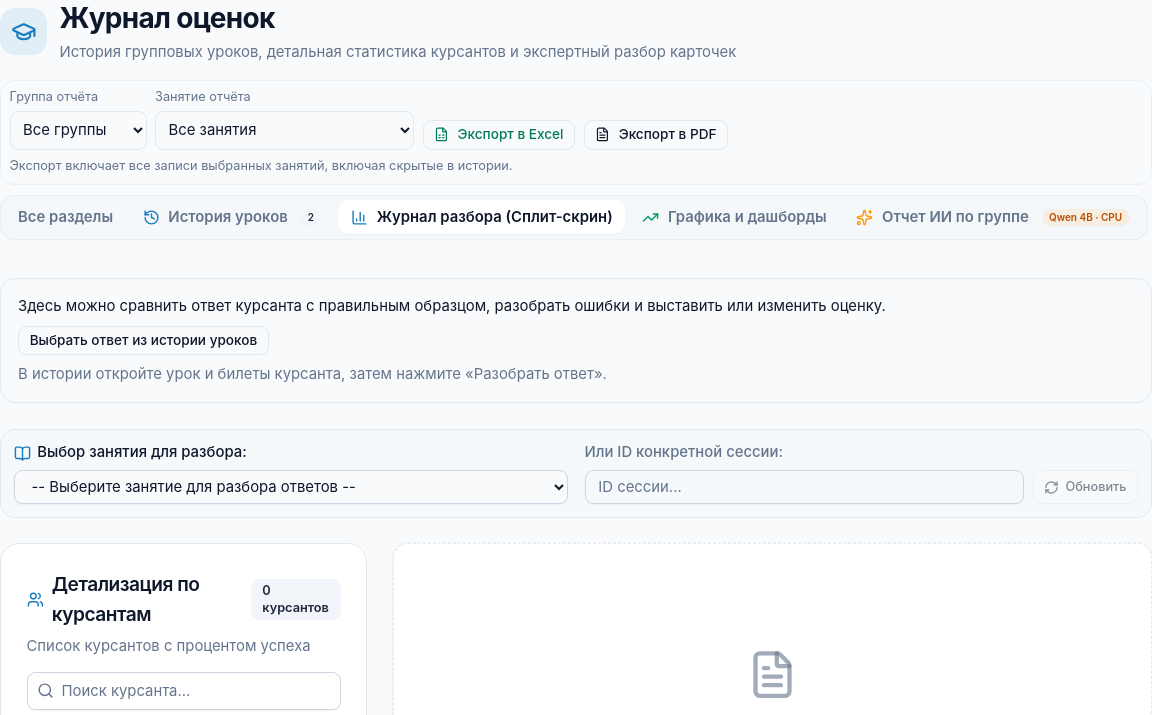
it: FIX-08: Split screen lesson selection and cadets roster › allows teacher to select a lesson without manual UUID and displays two cadets with their records
The width and height of the screenshot is (1152, 715).
Select lesson-alpha from dropdown
Select "Группа 101-П — Занятие (Завершён)" in the dropdown named "выбор урока" at (291, 487), box top-left (14, 470), bottom-right (568, 504)
(page scrolled)
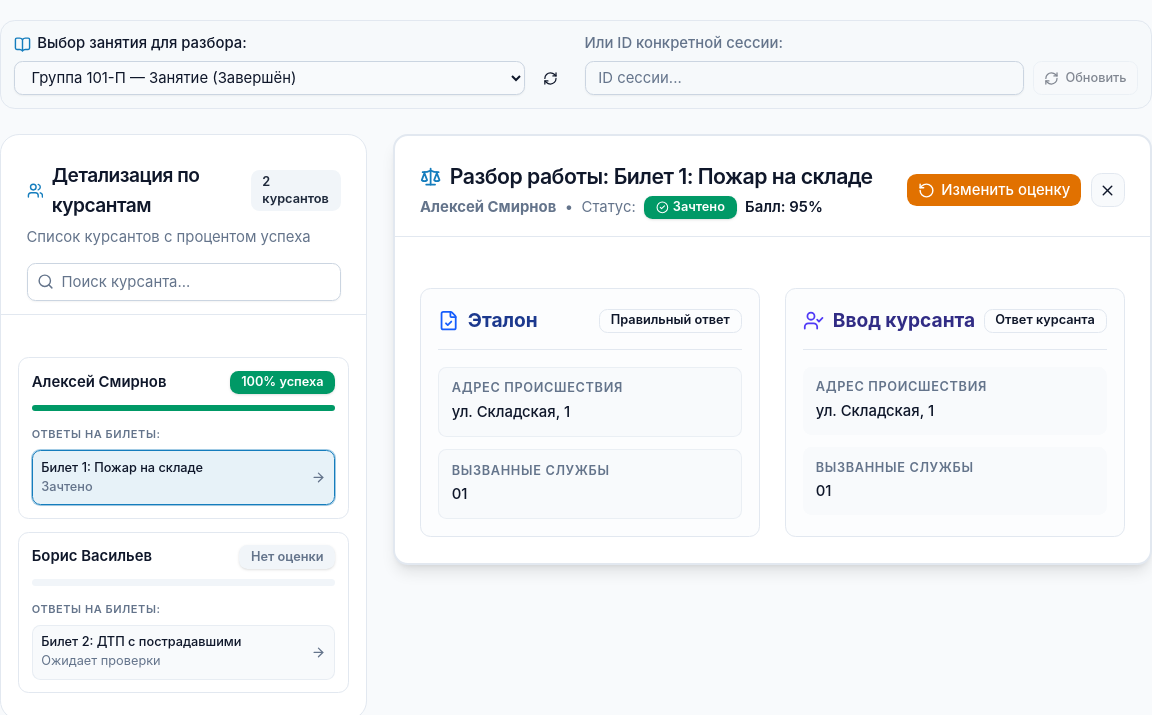
Now the text "Алексей Смирнов" next to "100% успеха" is shown, box top-left (32, 373), bottom-right (166, 391)
Now the text "Борис Васильев" is shown, box top-left (32, 546), bottom-right (152, 568)
Now the text with test id "success-rate-cadet-1" reads "100% успеха", box top-left (241, 374), bottom-right (324, 389)
Click second cadet's record: SplitScreen switches to Boris Vasilyev
Click the button with test id "record-item-rec-cadet-2" at (141, 642), box top-left (32, 624), bottom-right (335, 680)
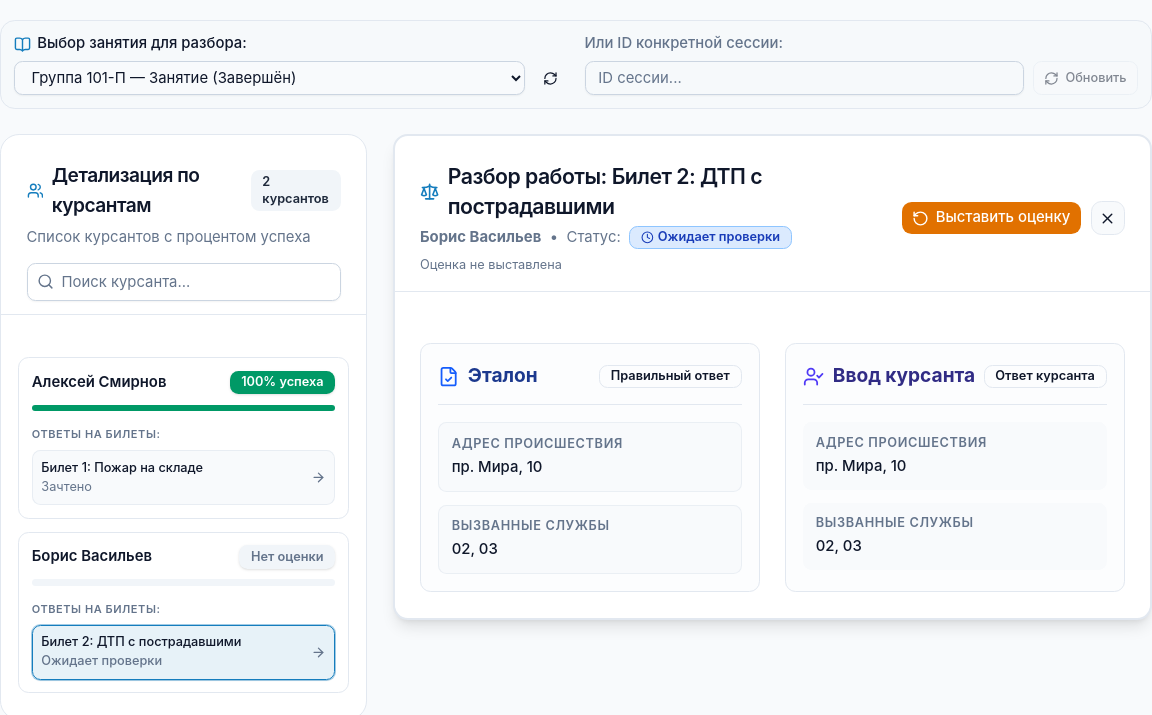
Now the element with test id "split-screen-card" shows "Борис Васильев", box top-left (420, 228), bottom-right (541, 246)
Now the element with test id "split-screen-card" shows "Билет 2: ДТП с пострадавшими", box top-left (448, 163), bottom-right (762, 219)
